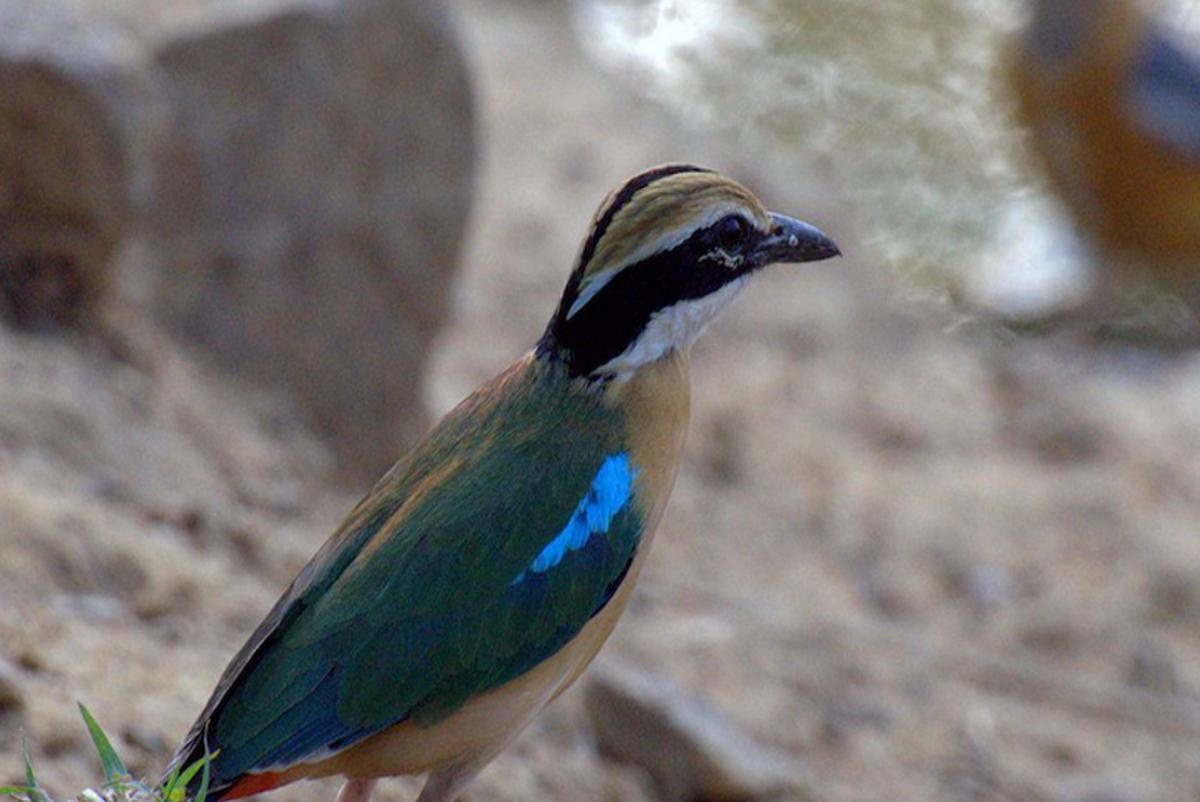pitta: (104, 128, 891, 802)
